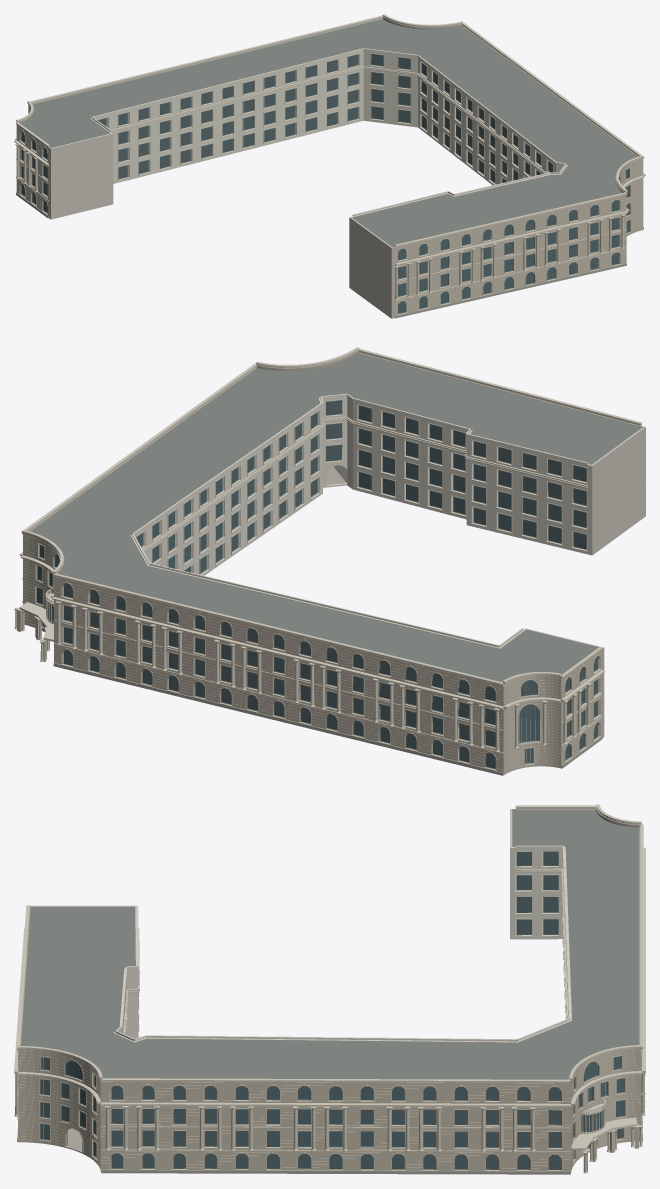
The model's file is huangpu-shanghai-municipal-council-lod.glb.
The picture shows the model from 3 angles, top to bottom: view 1: azimuth 30°, elevation 25°; view 2: azimuth 150°, elevation 25°; view 3: azimuth 270°, elevation 25°; orthographic projection. The views are drawn at different scales.
Parts seen in each view (by area): view 1: 上海公共租界工部局历史街面翼楼外观候选; view 2: 上海公共租界工部局历史街面翼楼外观候选; view 3: 上海公共租界工部局历史街面翼楼外观候选.
Part boxes in pixels (x1,y1,x2,y2): 上海公共租界工部局历史街面翼楼外观候选: (14, 14, 645, 318); 上海公共租界工部局历史街面翼楼外观候选: (14, 347, 645, 775); 上海公共租界工部局历史街面翼楼外观候选: (14, 804, 645, 1174).
Bounding box in the file's own units: 126 × 20.2 × 121.
